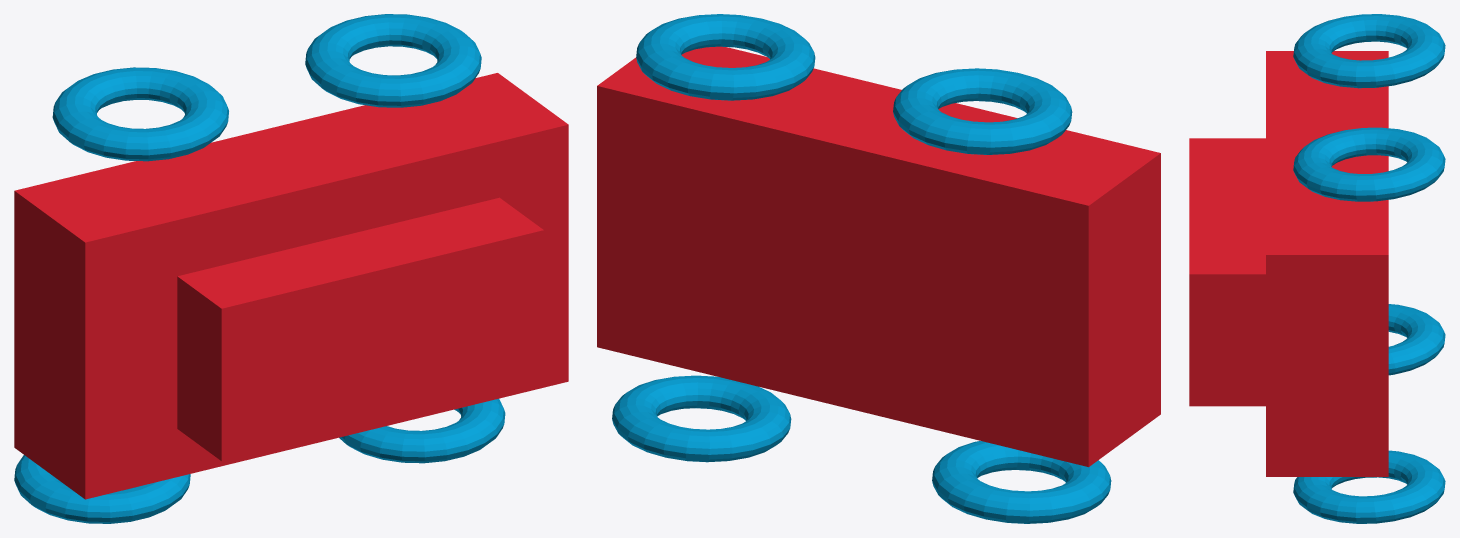
File: tinker.obj
3 renders of one model, left to right at view 1: azimuth 30°, elevation 25°; view 2: azimuth 150°, elevation 25°; view 3: azimuth 270°, elevation 25°, orthographic. The views are drawn at different scales.
Parts seen in each view (by area): view 1: group_0_15277357, group_0_40919; view 2: group_0_15277357, group_0_40919; view 3: group_0_15277357, group_0_40919.
Boxes of the visible parts, <box> form: group_0_15277357: <box>14,73,568,499</box>; group_0_40919: <box>14,14,505,523</box>; group_0_15277357: <box>597,46,1160,467</box>; group_0_40919: <box>612,14,1111,523</box>; group_0_15277357: <box>1189,51,1388,476</box>; group_0_40919: <box>1293,14,1445,523</box>.
Size of the model in its own units: 63 by 50.02 by 33.44.
